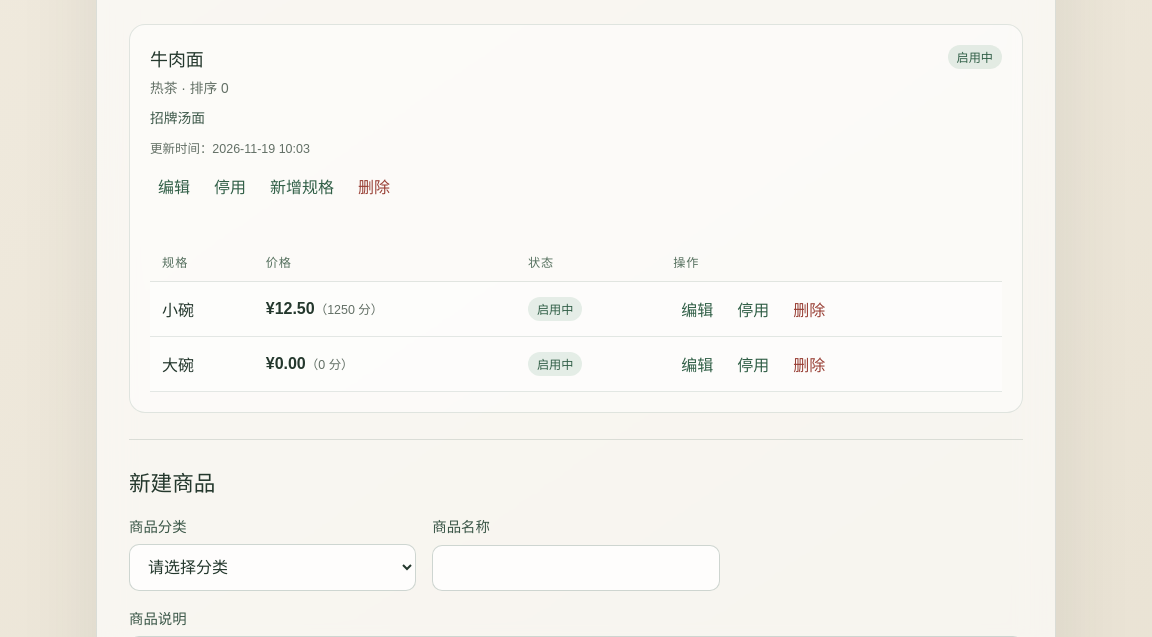
product menu management for signed-in staff › updates a variant price using integer fen and the exact string id
This screenshot has width=1152, height=637.
(page scrolled)
Click the button with aria-label "编辑规格 小碗".
click(697, 309)  # box [673, 292, 721, 326]
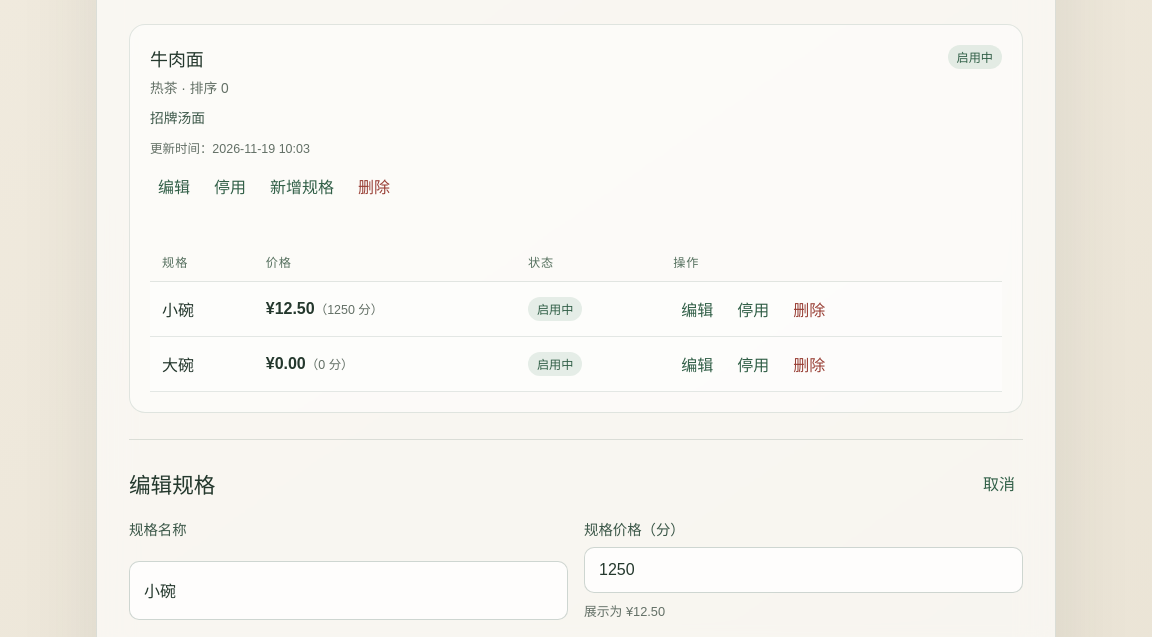
Replace the text in the field labelled "规格价格（分）" with " 250 " at point(804, 570), box [584, 547, 1023, 593]
(page scrolled)
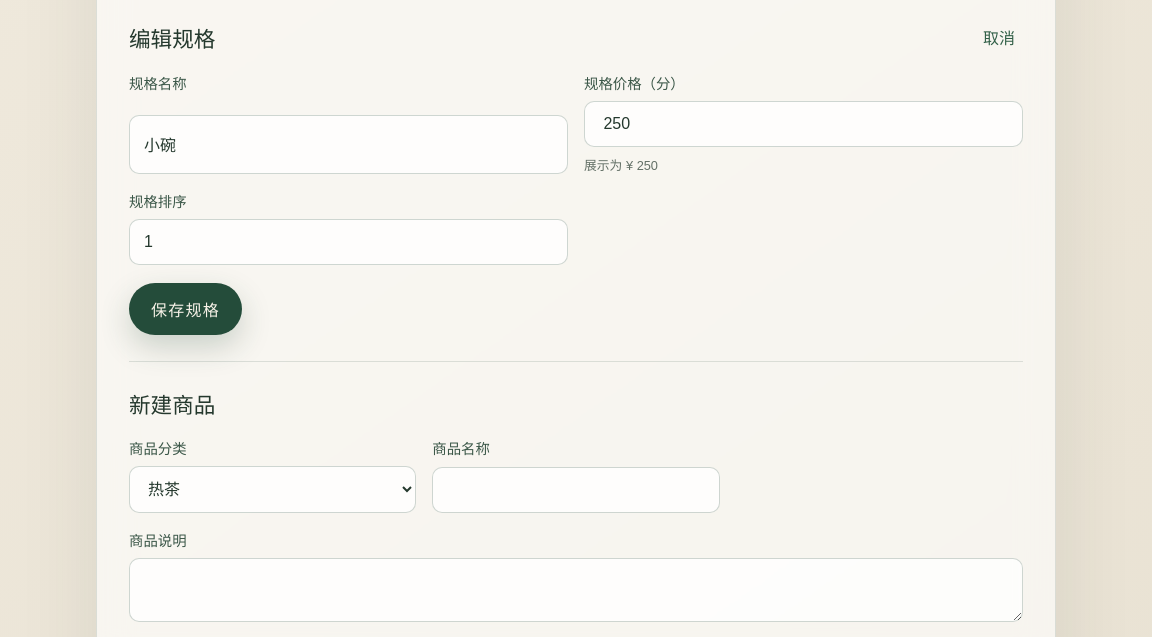
Click the button "保存规格".
click(186, 309)  # box [129, 283, 242, 335]
(page scrolled)
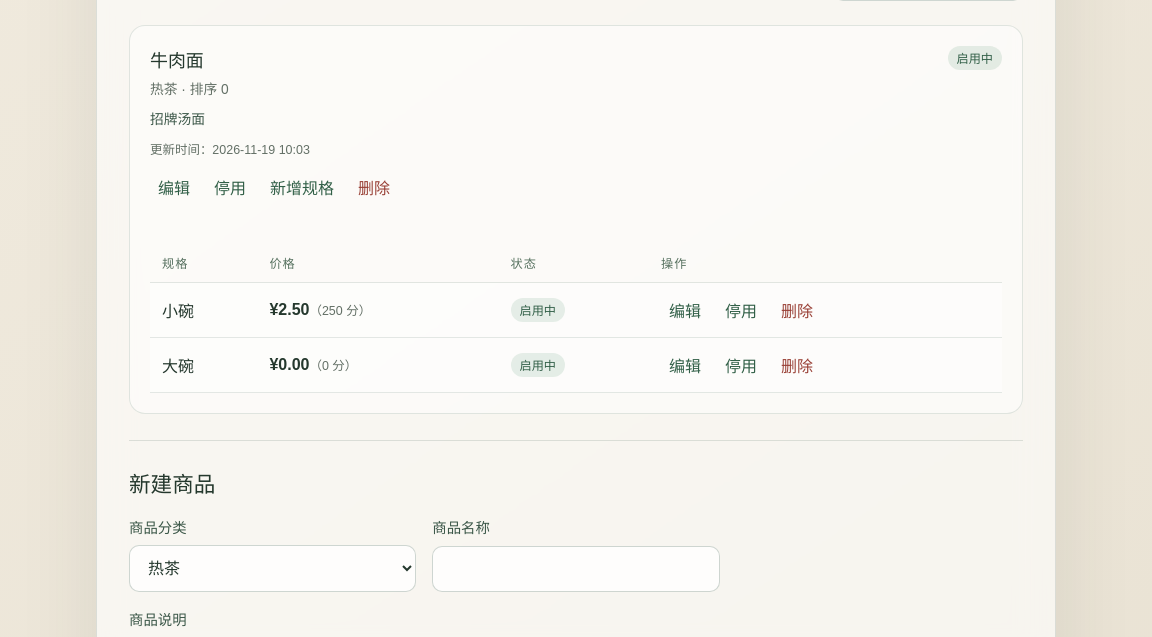
Now the text "¥2.50" is shown, box [269, 301, 309, 318]
